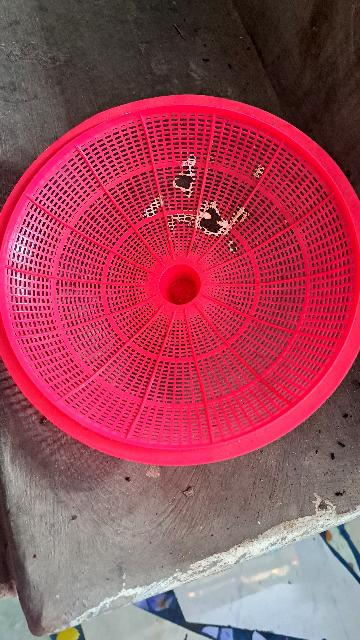hardplastic: (1, 82, 358, 476)
